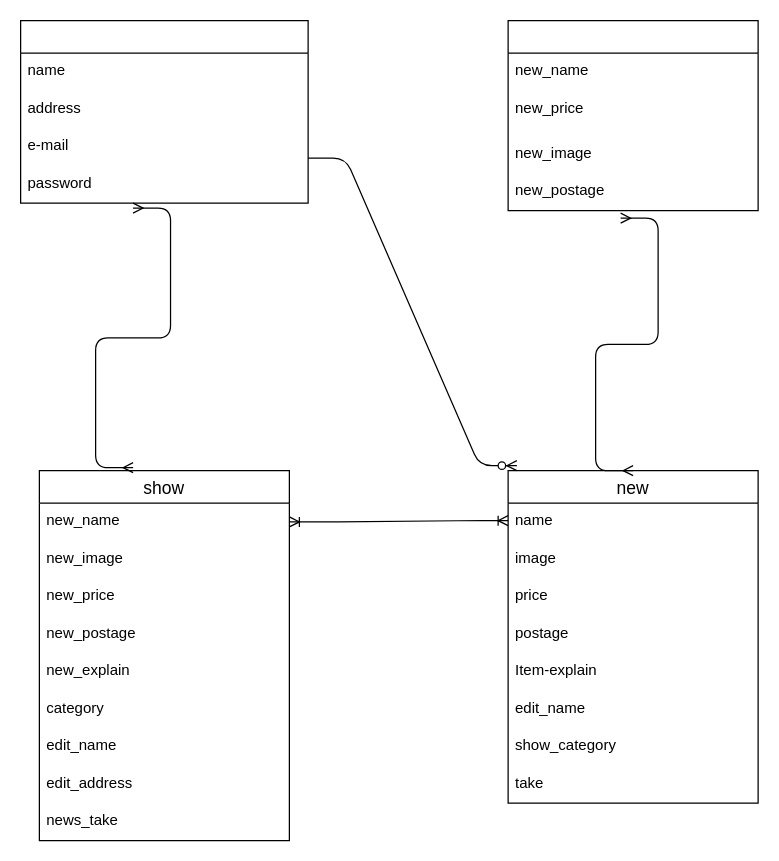
This 779x861 diagram has some shape labels left out. The box of each missing label's shape, as (x1, y1, x2, y2) in pixels:
edit: (19, 19, 308, 203)
index: (507, 19, 758, 211)
